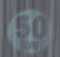Speed limit: (4, 0, 53, 54)
